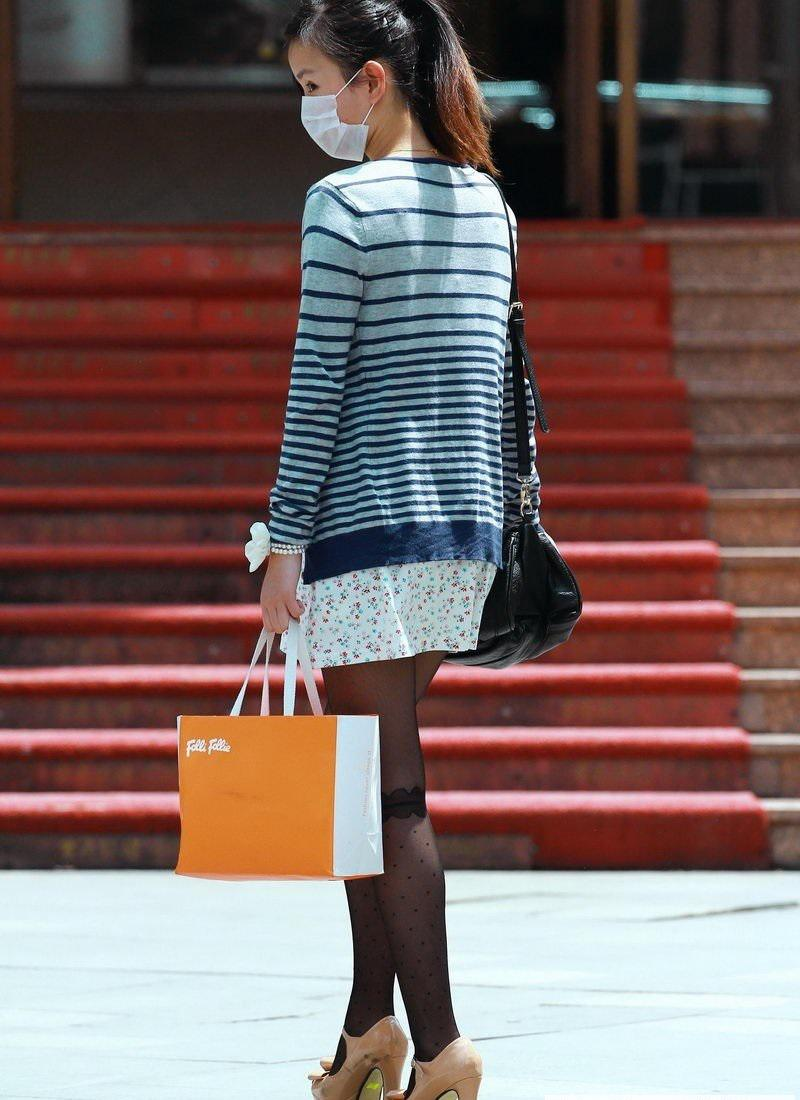OK: (282, 61, 378, 157)
